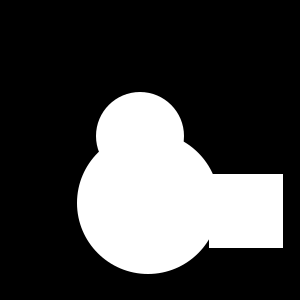circle: (209, 174, 283, 248)
rectangle: (77, 132, 219, 274), (96, 92, 184, 180), (122, 96, 150, 122)
triangle: (169, 147, 199, 177)
